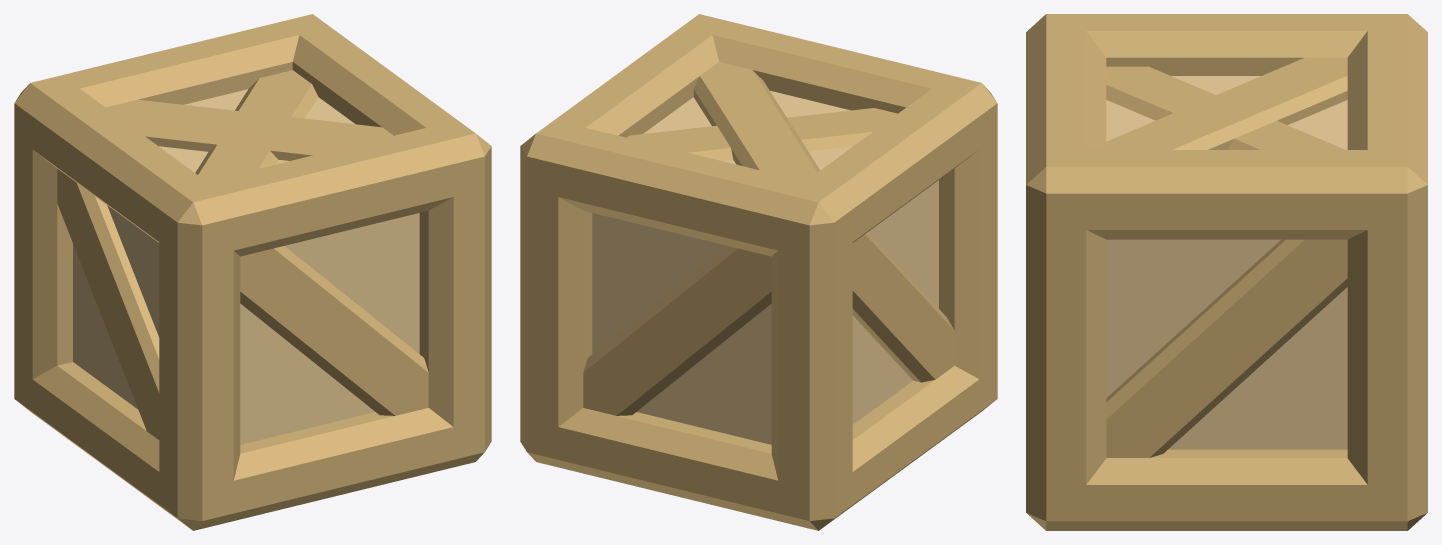
Rendered from prop_crate.glb.
3 views of the same model, side by side, from view 1: azimuth 30°, elevation 25°; view 2: azimuth 150°, elevation 25°; view 3: azimuth 270°, elevation 25° (orthographic). The views are drawn at different scales.
Parts seen in each view (by area): view 1: Wood_Dark, Wood_Medium; view 2: Wood_Dark, Wood_Medium; view 3: Wood_Dark, Wood_Medium.
Part boxes in pixels (x1,y1,x2,y2): Wood_Dark: [14, 14, 491, 530]; Wood_Medium: [73, 89, 419, 444]; Wood_Dark: [520, 14, 997, 530]; Wood_Medium: [592, 90, 938, 444]; Wood_Dark: [1026, 14, 1427, 530]; Wood_Medium: [1106, 76, 1347, 449].
Bounding box in the file's own units: 1 × 1 × 1.
